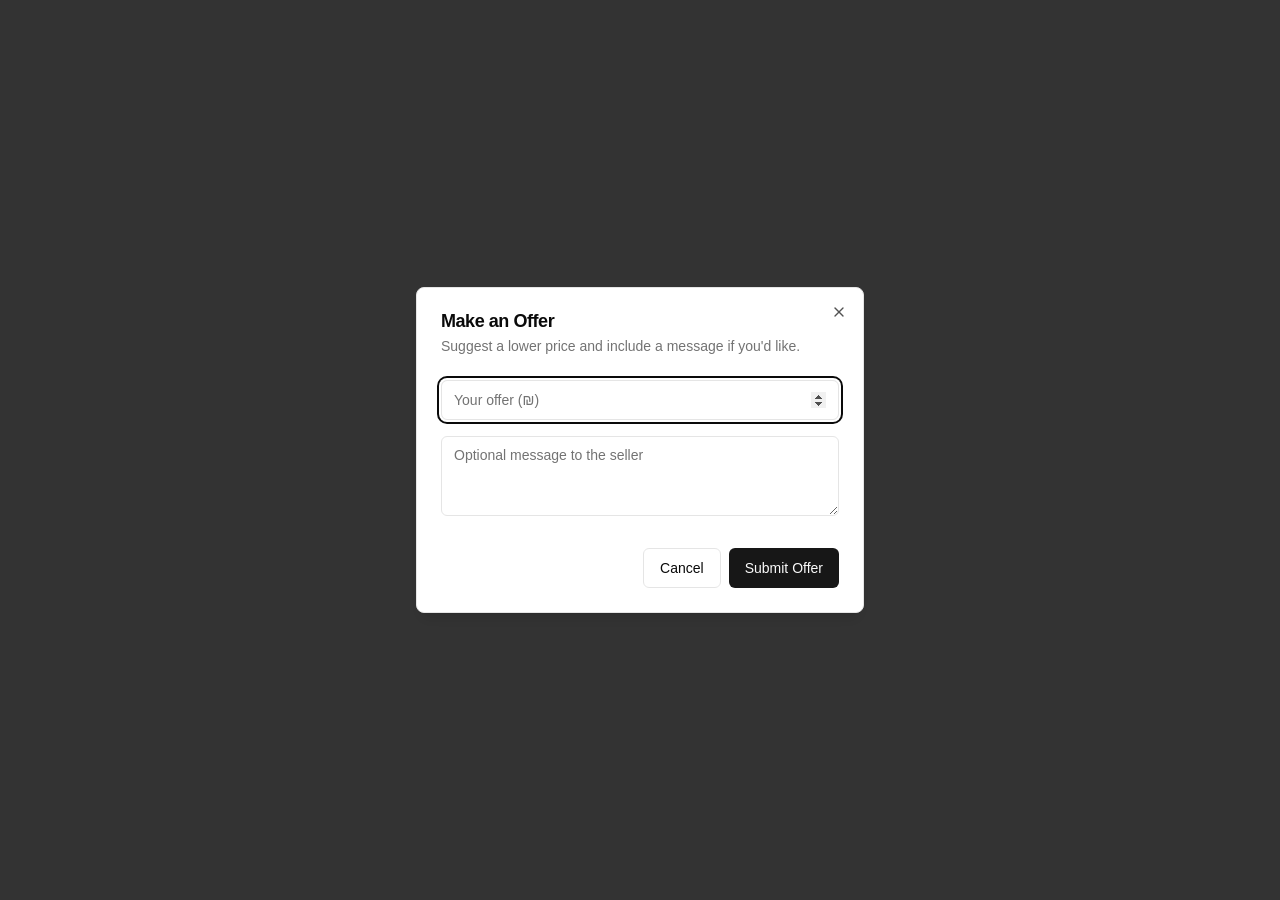
Test case: MakeOfferModal › shows an error if the offer is too high
The width and height of the screenshot is (1280, 900).
In the number field with placeholder "Your offer (₪)": {"x": 640, "y": 400} left=441, top=380, right=839, bottom=420, type "150"
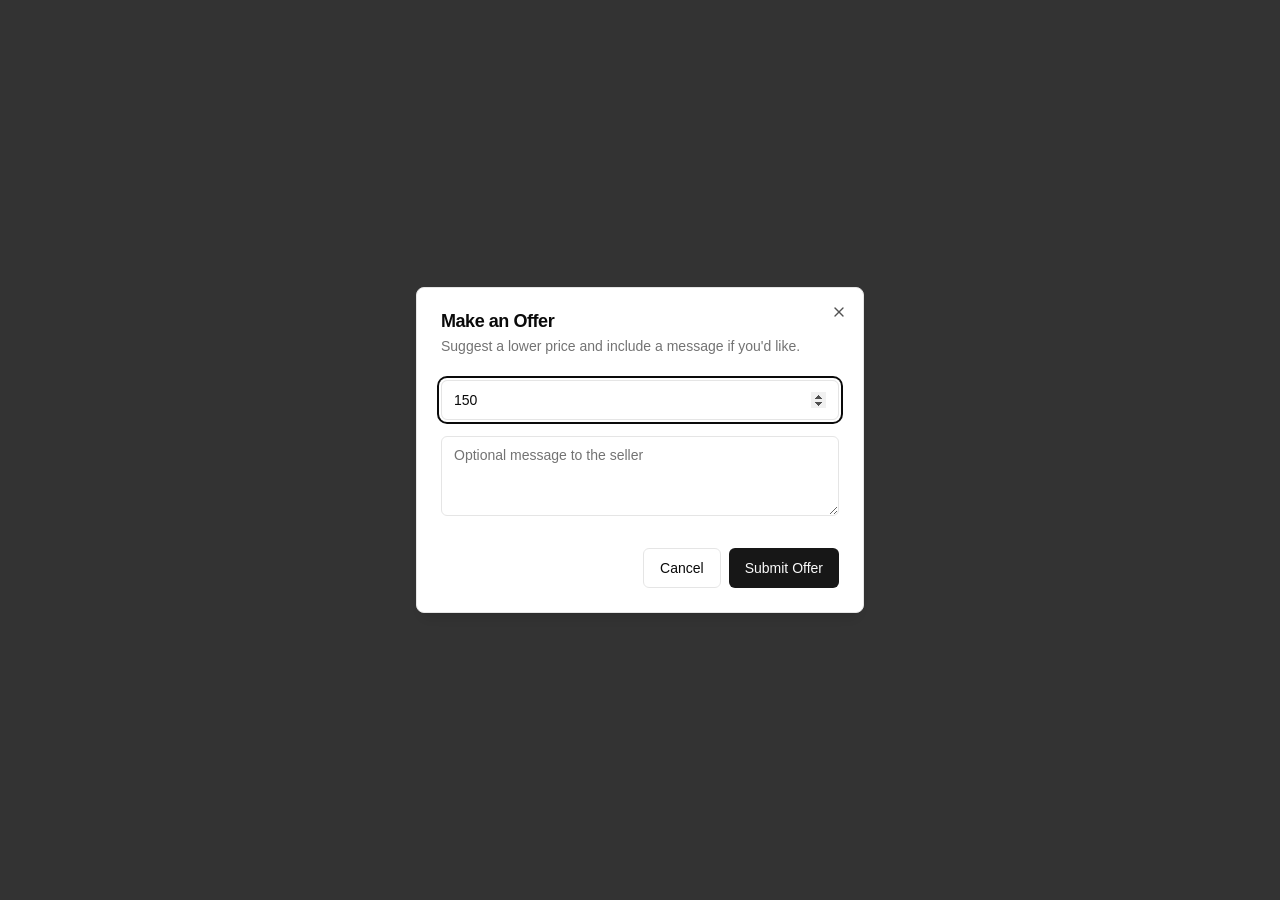
Click the button "Submit Offer": {"x": 784, "y": 568} left=729, top=548, right=839, bottom=588
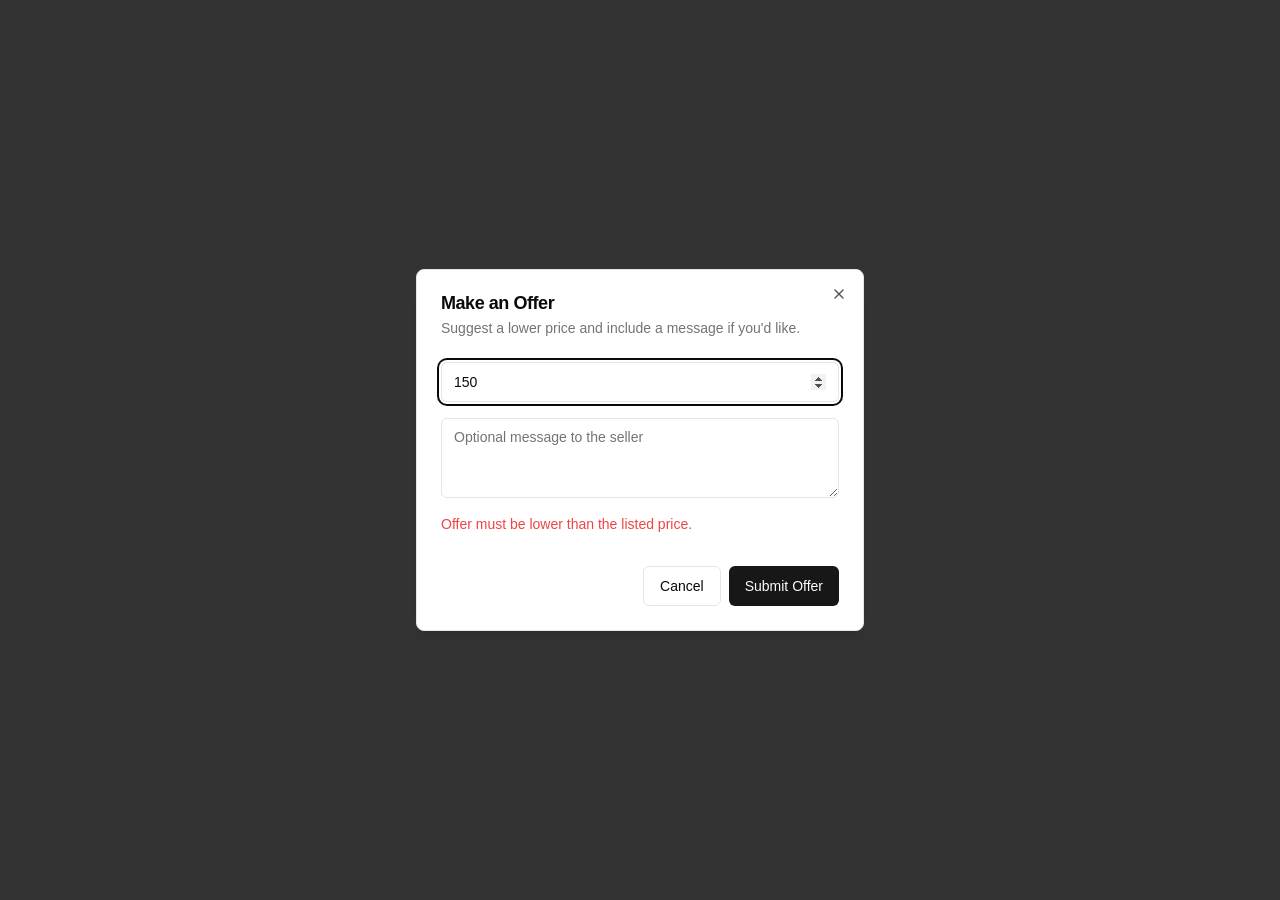
Result: the text "Offer must be lower than the listed price." is shown at left=441, top=516, right=692, bottom=532
